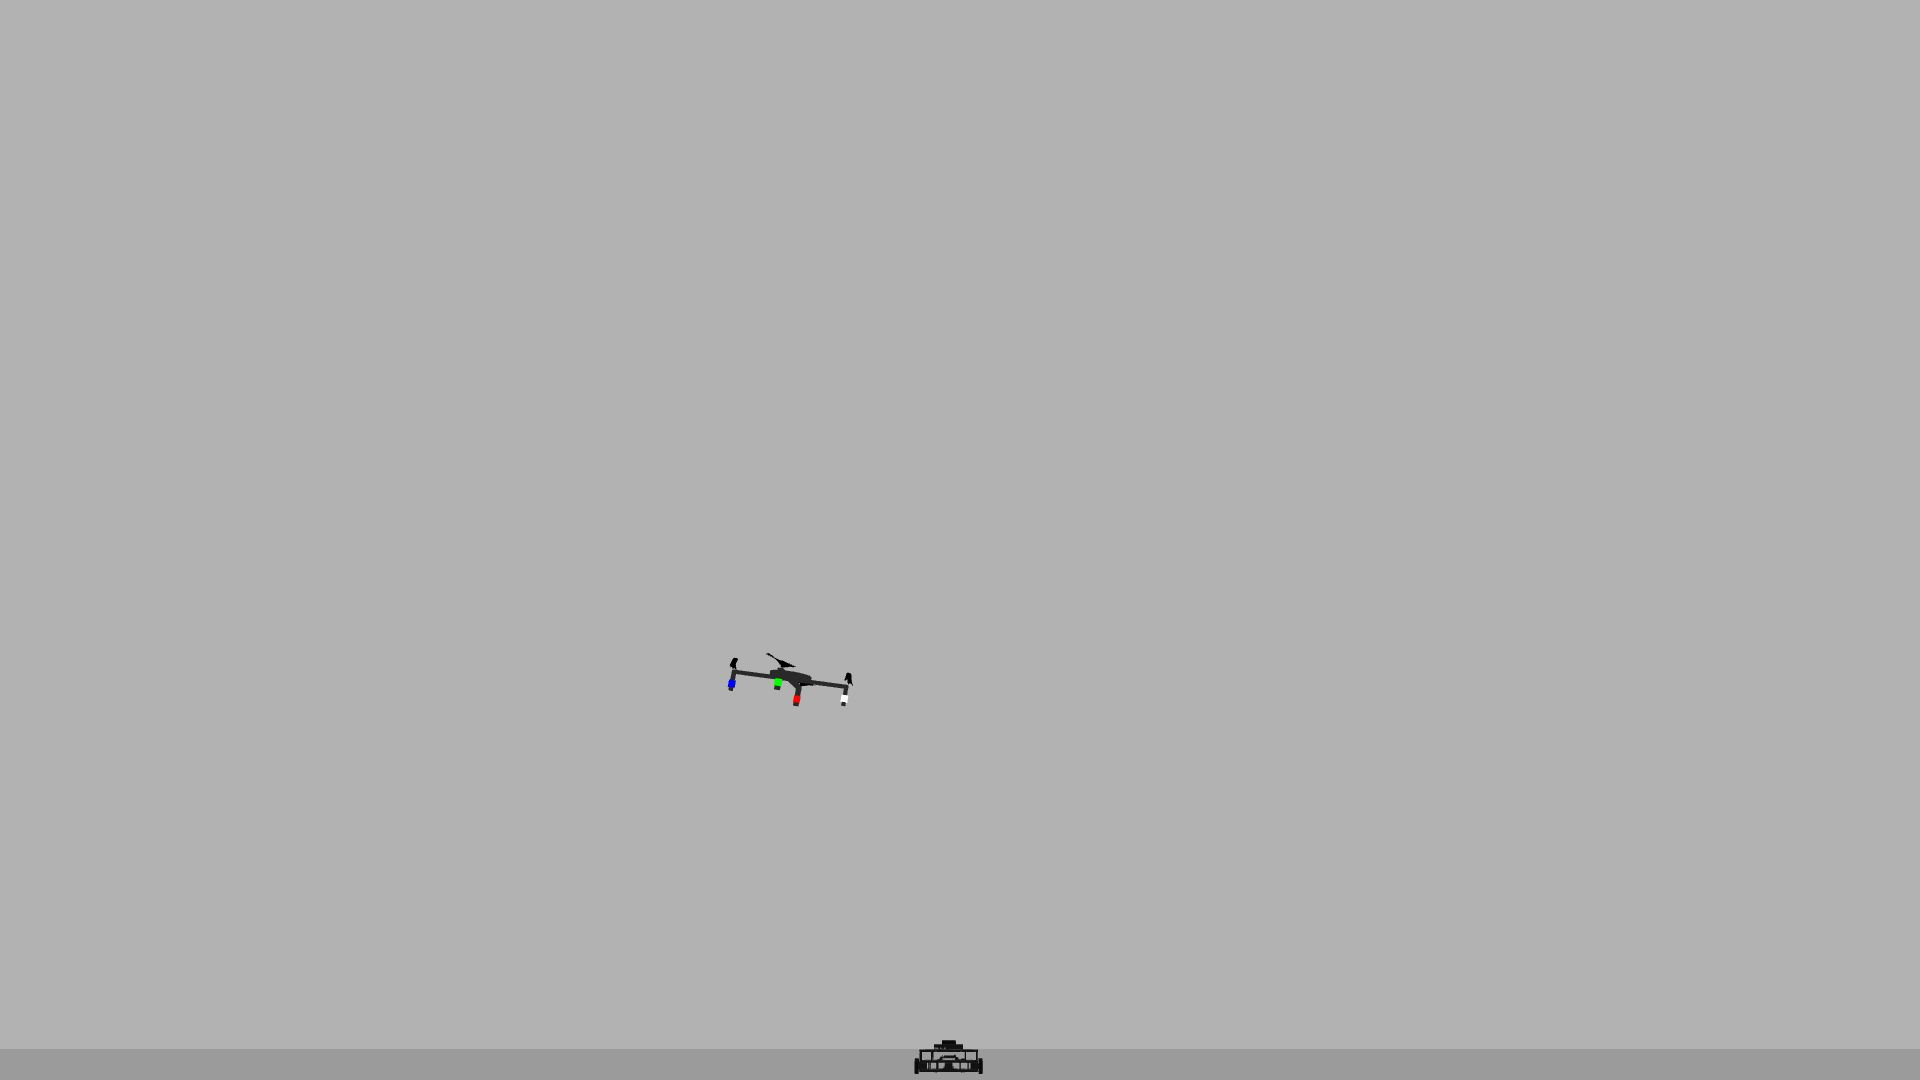drone: (708, 629, 878, 721)
